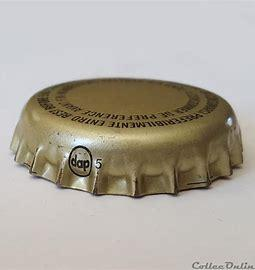metal: (11, 79, 243, 196)
